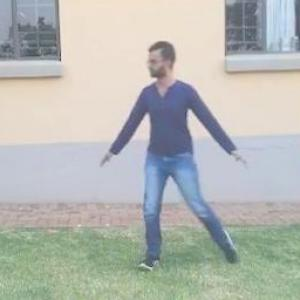land: (102, 48, 245, 237)
